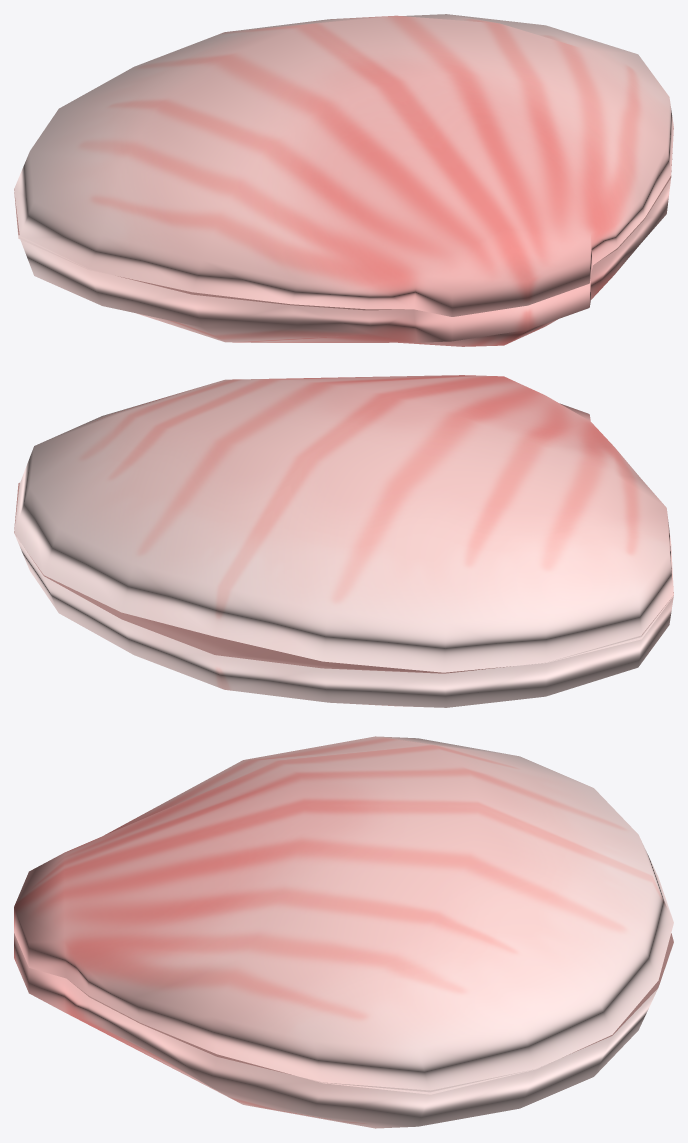
The model's file is kai.fbx.
The picture shows the model from 3 angles, top to bottom: view 1: azimuth 30°, elevation 25°; view 2: azimuth 150°, elevation 25°; view 3: azimuth 270°, elevation 25°; orthographic projection. The views are drawn at different scales.
Visible parts, largest first — view 1: kai; view 2: kai; view 3: kai.
Boxes of the visible parts, left/top/right/bottom form: kai: left=14, top=14, right=673, bottom=346; kai: left=14, top=375, right=673, bottom=707; kai: left=14, top=736, right=673, bottom=1128.
Bounding box in the file's own units: 36.41 × 13.52 × 31.71.
